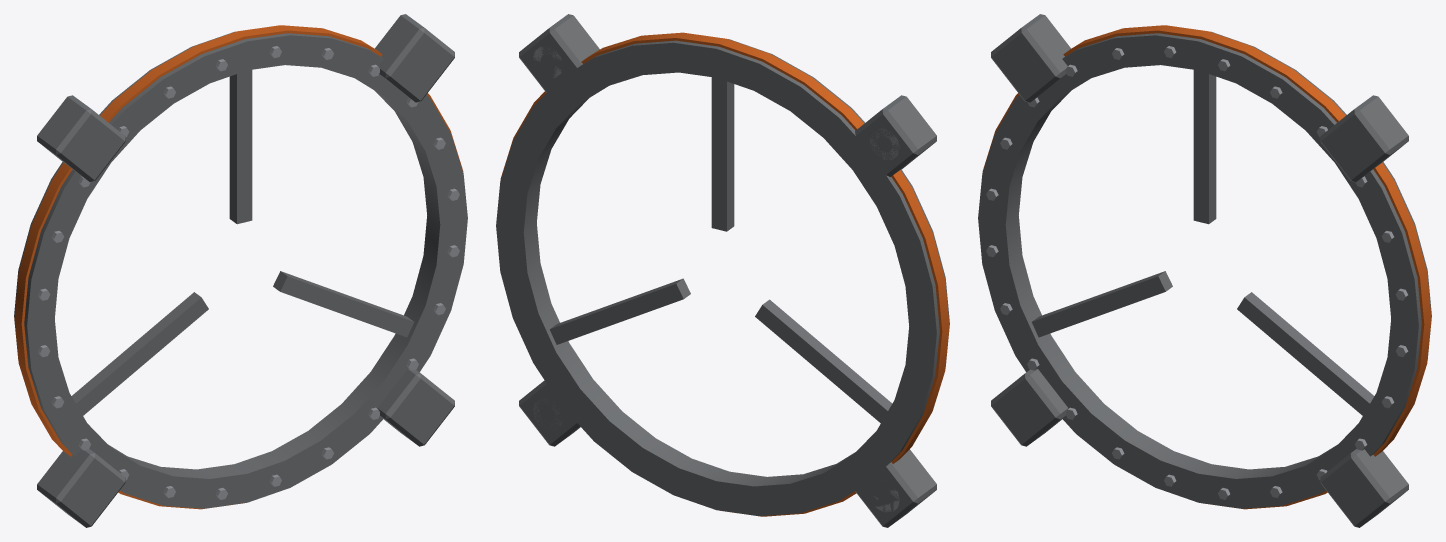
The model's file is u70_flange.obj.
3 views of the same model, side by side, from view 1: azimuth 30°, elevation 25°; view 2: azimuth 150°, elevation 25°; view 3: azimuth 330°, elevation 25° (orthographic).
Parts seen in each view (by area): view 1: u70_flange; view 2: u70_flange; view 3: u70_flange.
Part boxes in pixels (x1,y1,x2,y2): u70_flange: [14, 14, 467, 527]; u70_flange: [496, 14, 949, 527]; u70_flange: [978, 14, 1431, 527].
Bounding box in the file's own units: 3.54 × 3.54 × 0.32.
